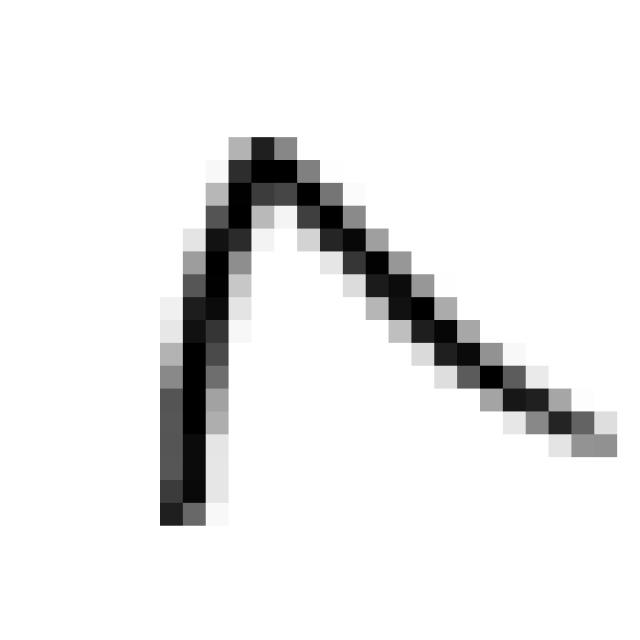8 -eight-: (126, 114, 632, 550)
